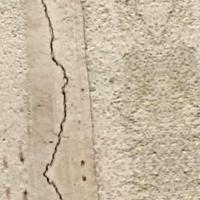crack: (24, 0, 94, 199)
